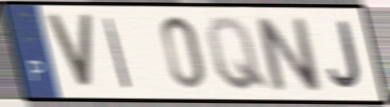0: (159, 13, 210, 94)
I: (102, 15, 134, 91)
J: (326, 19, 365, 92)
N: (251, 14, 326, 94)
Q: (203, 14, 272, 94)
V: (43, 12, 96, 93)
